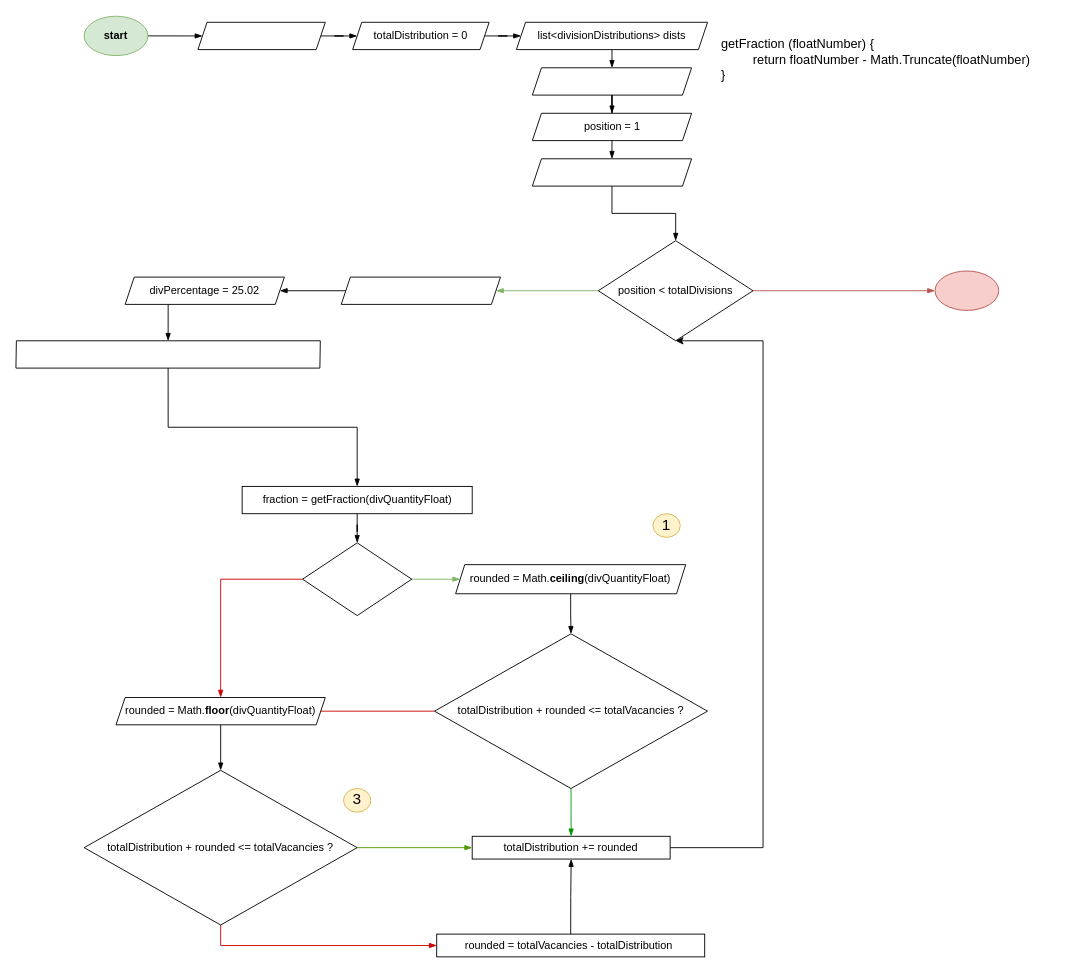
The diagram is 1069 pixels wide and 973 high, and some of its shapes have lost their labels. The centre of each missing label's shape, as x and y in pixels:
"division = divisions[position]" goes at point (420, 290).
"divisions[]" goes at point (611, 81).
"divQuantityFloat = (divPercentage/100) * totalVacancies" goes at point (167, 354).
"end" goes at point (966, 290).
"fraction > 0.5 ?" goes at point (357, 579).
"totalDivisions = 8" goes at point (611, 172).
"totalVacancies = 10" goes at point (261, 35).
